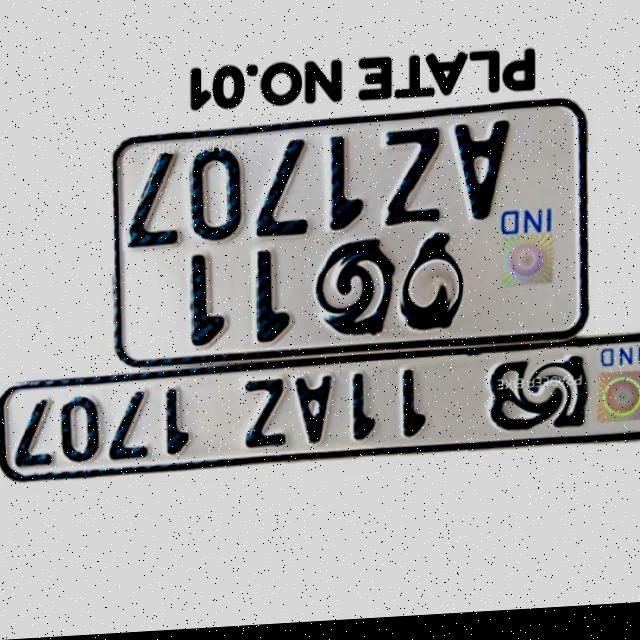plate: (109, 109, 589, 366), (0, 352, 640, 484)
